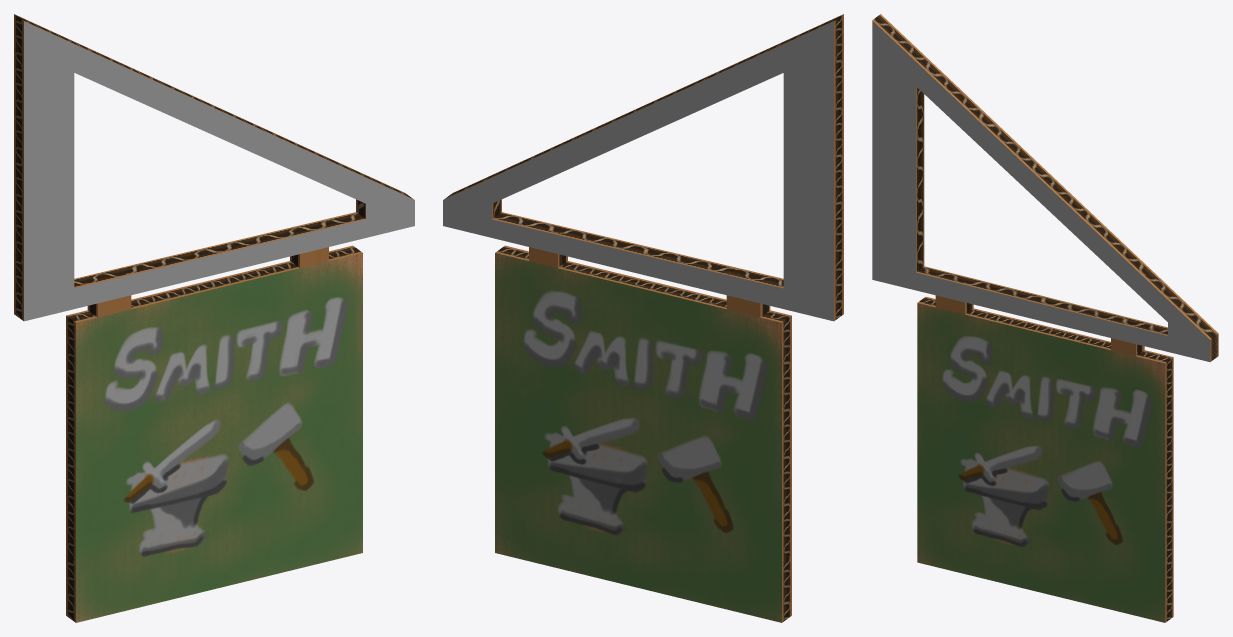
The model's file is SmithHangingSign.fbx.
The picture shows the model from 3 angles, left to right: view 1: azimuth 30°, elevation 25°; view 2: azimuth 150°, elevation 25°; view 3: azimuth 330°, elevation 25°; orthographic projection. The views are drawn at different scales.
Parts seen in each view (by area): view 1: pCube15, pCube14; view 2: pCube15, pCube14; view 3: pCube15, pCube14.
Part boxes in pixels (x1=…): pCube15: x1=66, y1=245, x2=362, y2=622; pCube14: x1=14, y1=14, x2=414, y2=321; pCube15: x1=495, y1=245, x2=791, y2=622; pCube14: x1=443, y1=14, x2=843, y2=321; pCube15: x1=917, y1=297, x2=1173, y2=622; pCube14: x1=872, y1=14, x2=1218, y2=361.
Bounding box in the file's own units: 1.05 × 1.57 × 0.0461.
